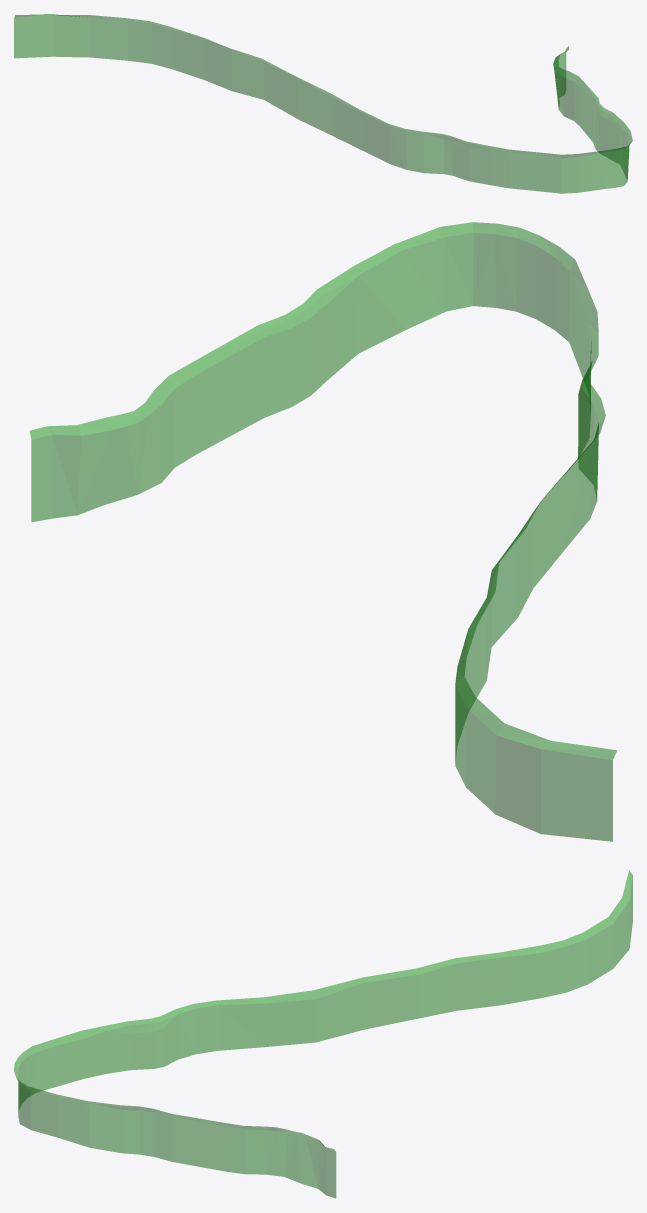
The model's file is wall1.obj.
3 renders of one model, top to bottom at view 1: azimuth 30°, elevation 25°; view 2: azimuth 150°, elevation 25°; view 3: azimuth 270°, elevation 25°, orthographic. The views are drawn at different scales.
Bounding box in the file's own units: 164 × 30.84 × 183.
